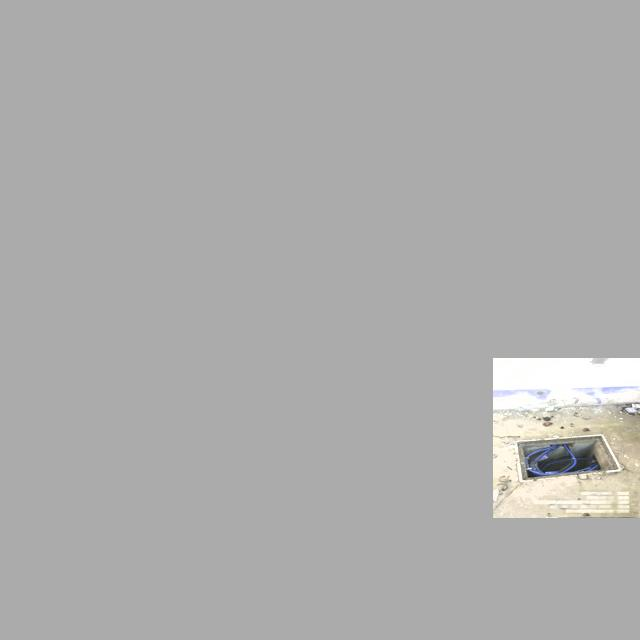lose: (515, 433, 623, 482)
